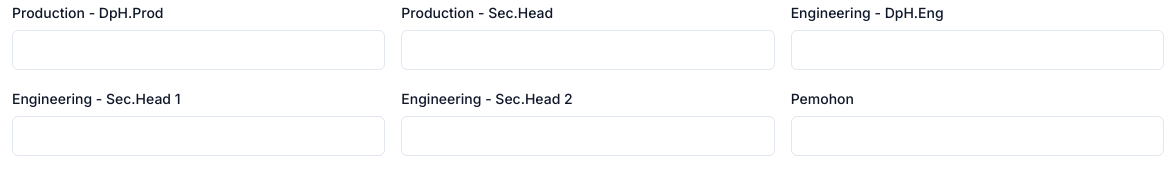
Scenario: ApprovalFields › updates form state when typing a name
Type "Hakim" into the field labelled "Pemohon" at point(977, 136), box [791,116,1164,156]
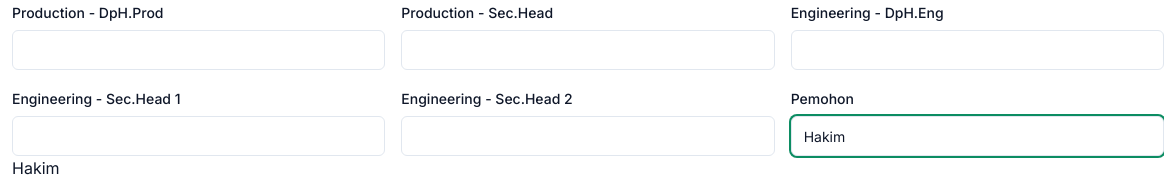
Now the text with test id "pemohon-value" reads "Hakim", box [12,158,60,178]
